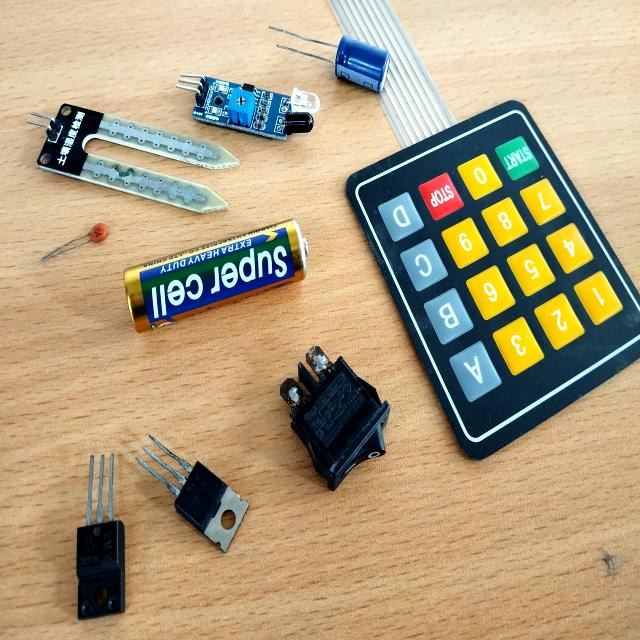capacitor: (337, 40, 386, 87), (55, 223, 109, 255)
